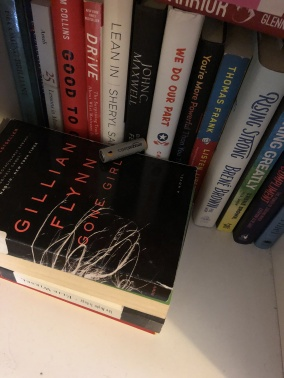battery: (92, 131, 156, 171)
